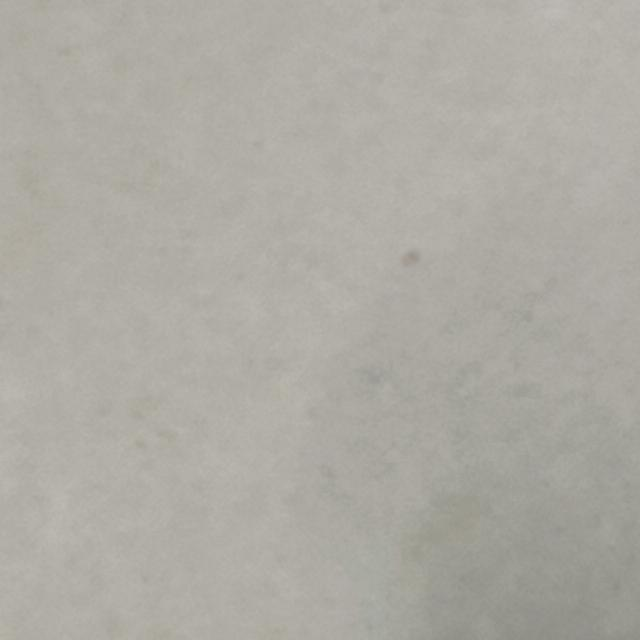ginger: (26, 332, 640, 640)
